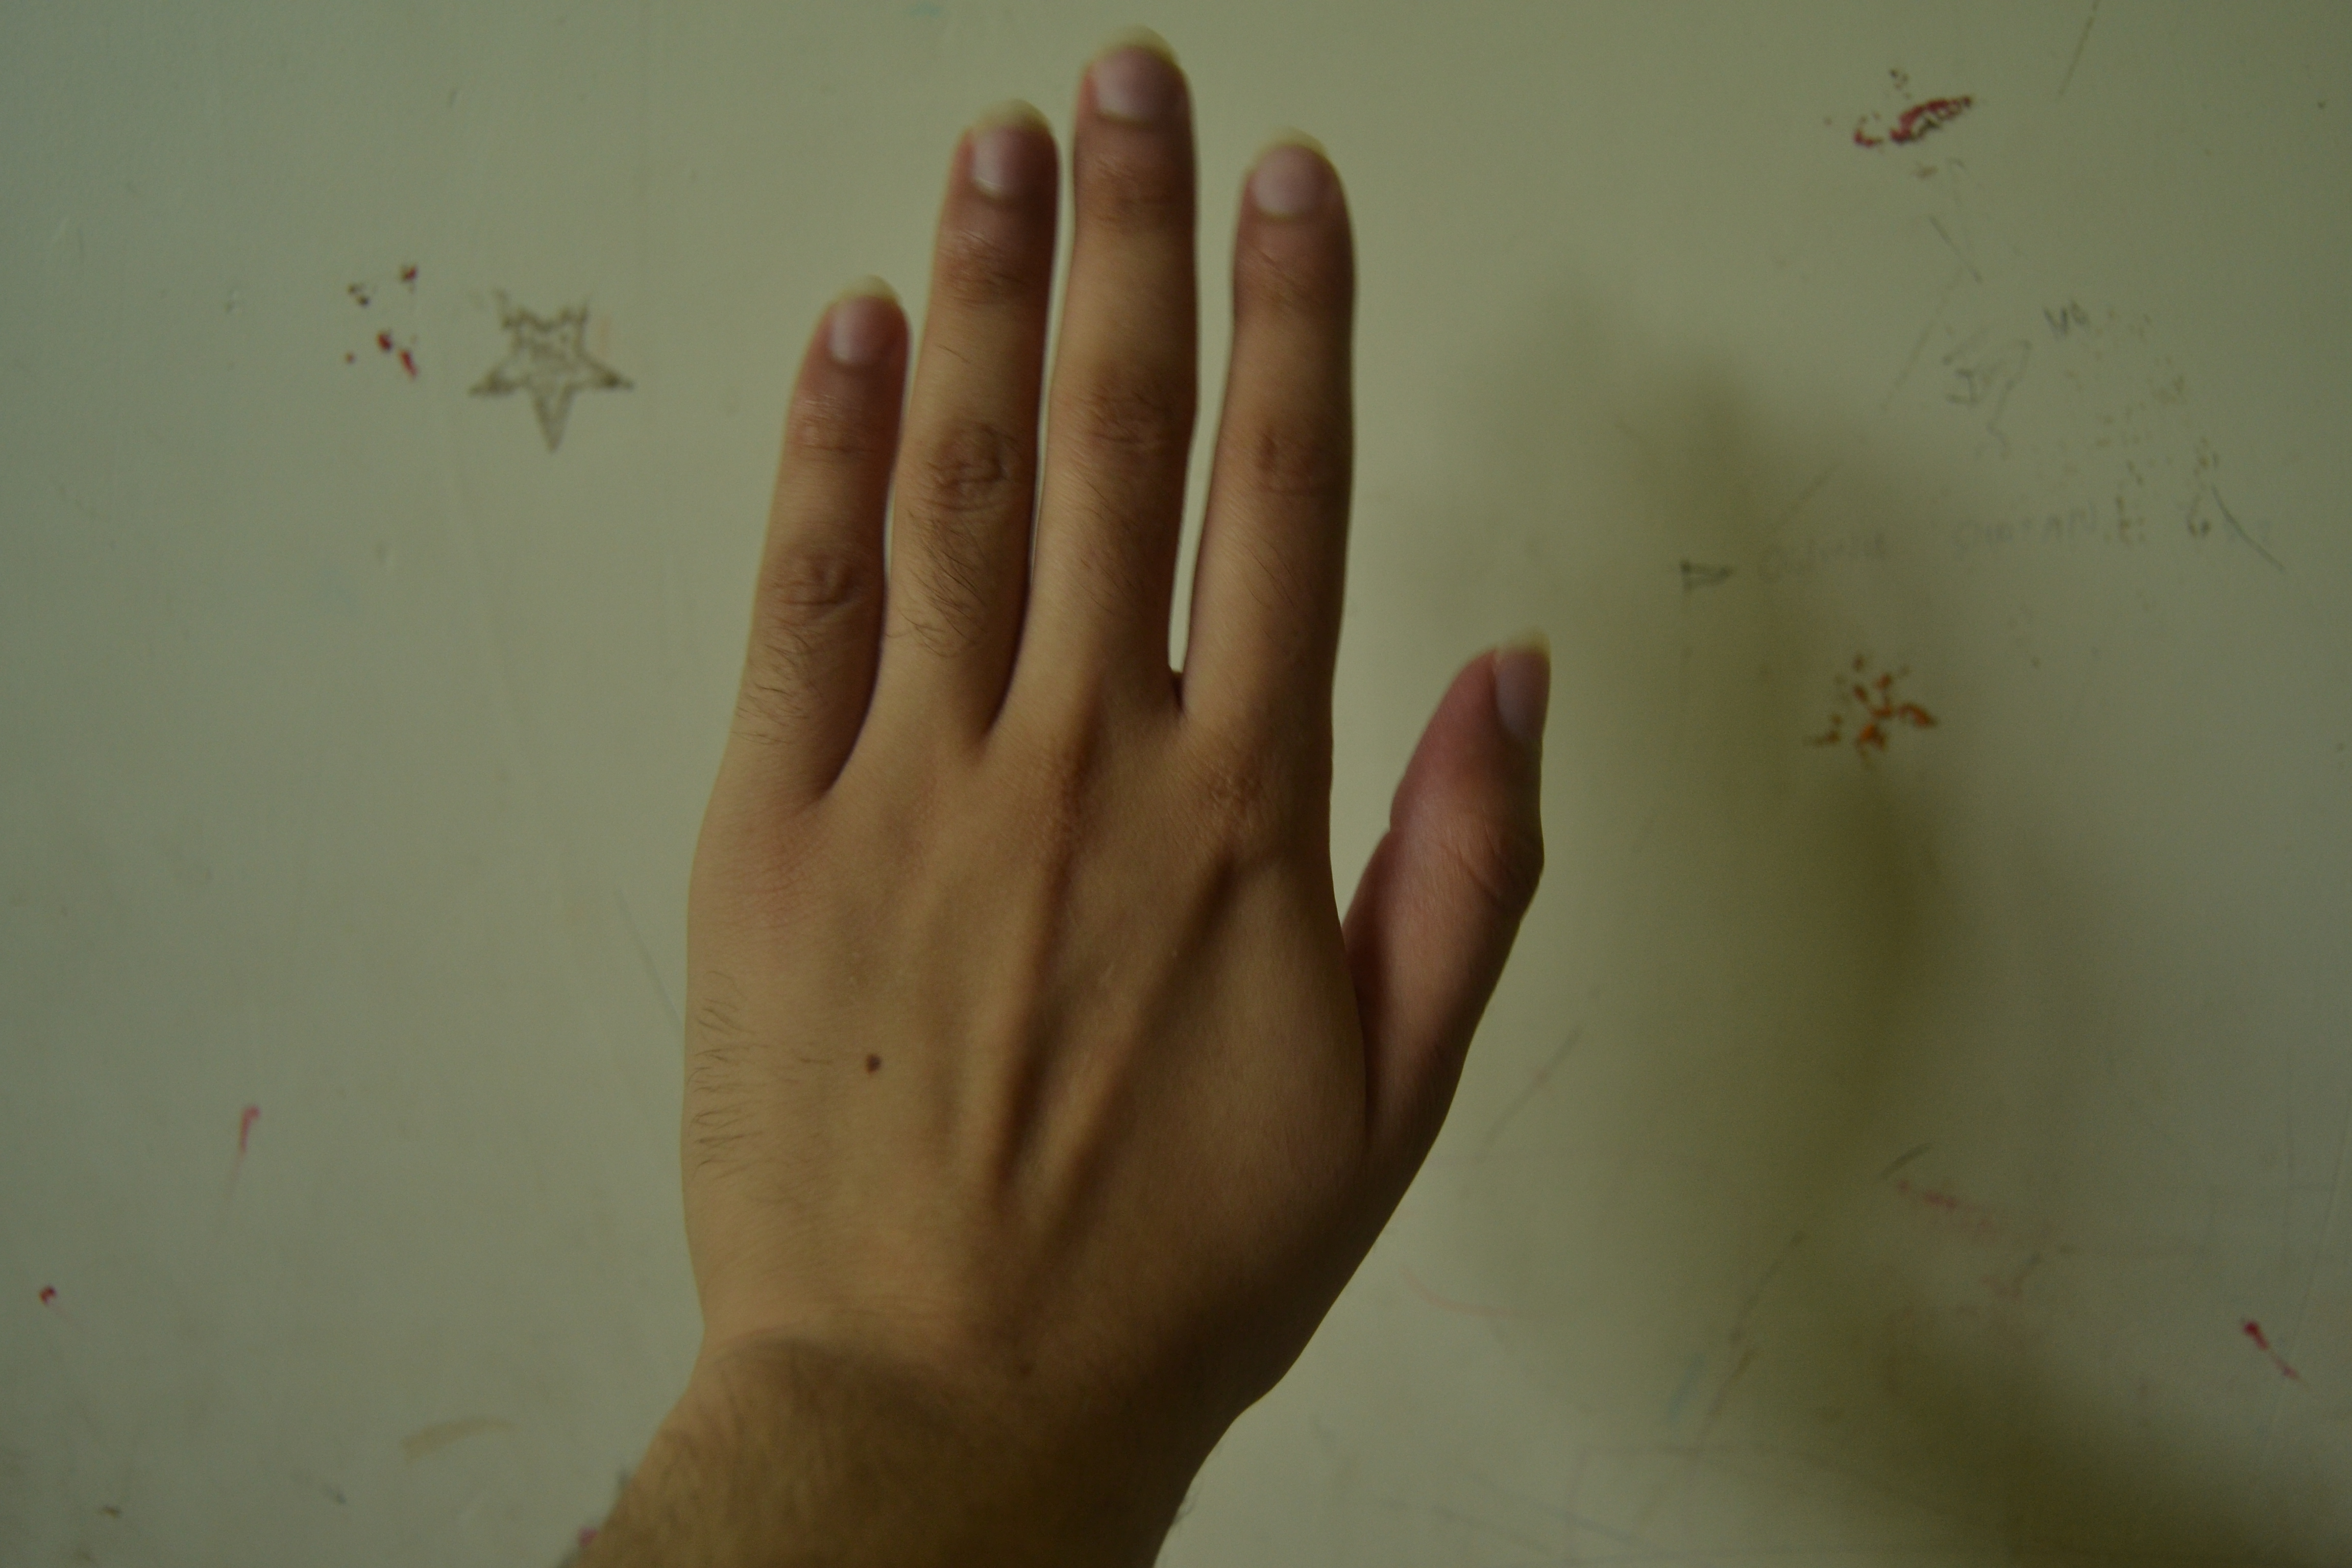move: (688, 21, 1589, 1438)
